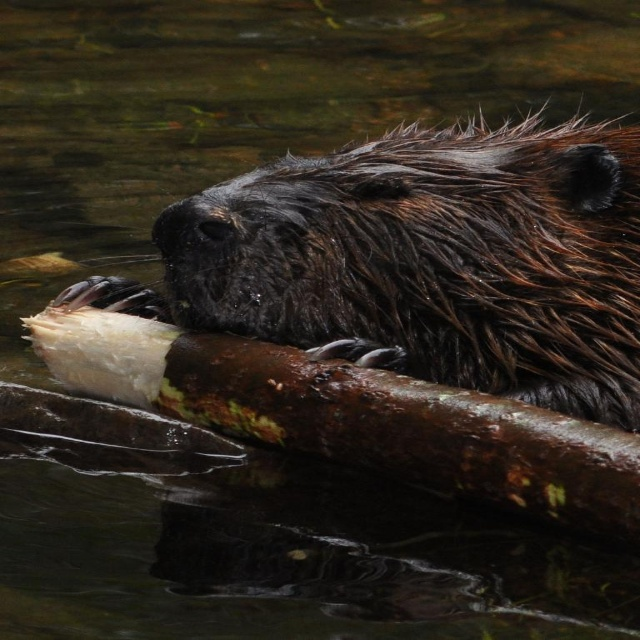Otter: (51, 93, 640, 433)
